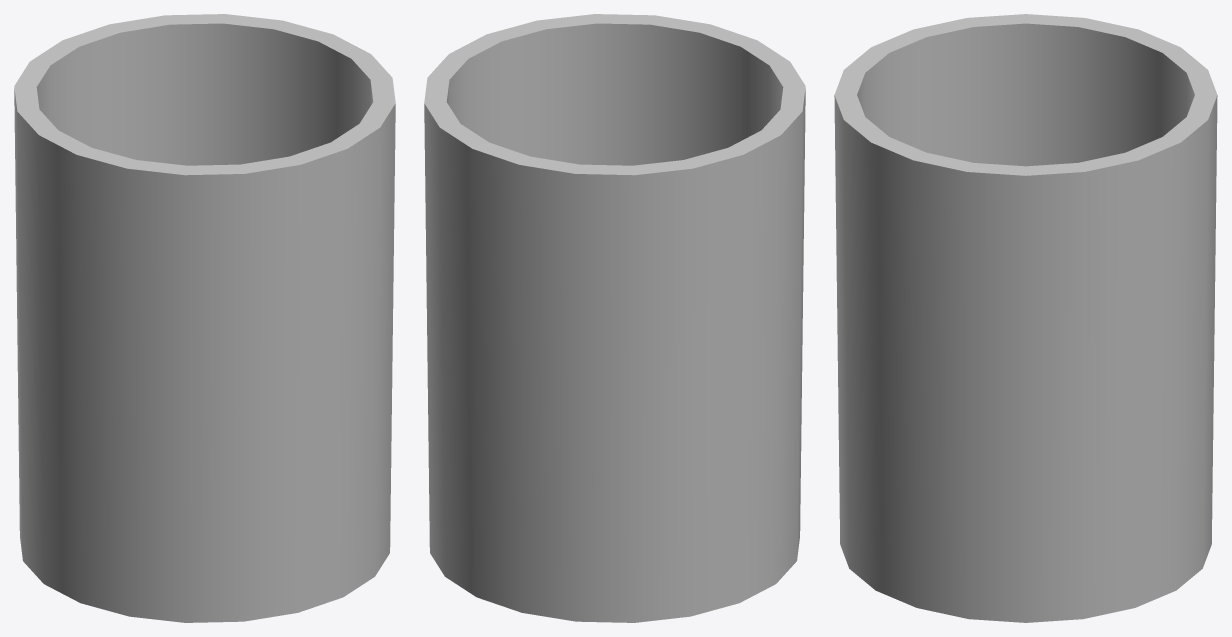
The model's file is Bin.fbx.
3 views of the same model, side by side, from view 1: azimuth 30°, elevation 25°; view 2: azimuth 150°, elevation 25°; view 3: azimuth 270°, elevation 25° (orthographic).
Parts seen in each view (by area): view 1: pCylinder209; view 2: pCylinder209; view 3: pCylinder209.
Part boxes in pixels (x1,y1,x2,y2): pCylinder209: [14, 14, 395, 622]; pCylinder209: [424, 14, 805, 622]; pCylinder209: [834, 14, 1217, 622].
Bounding box in the file's own units: 0.4151 × 0.5488 × 0.4151.
1 material, 1 textured.
